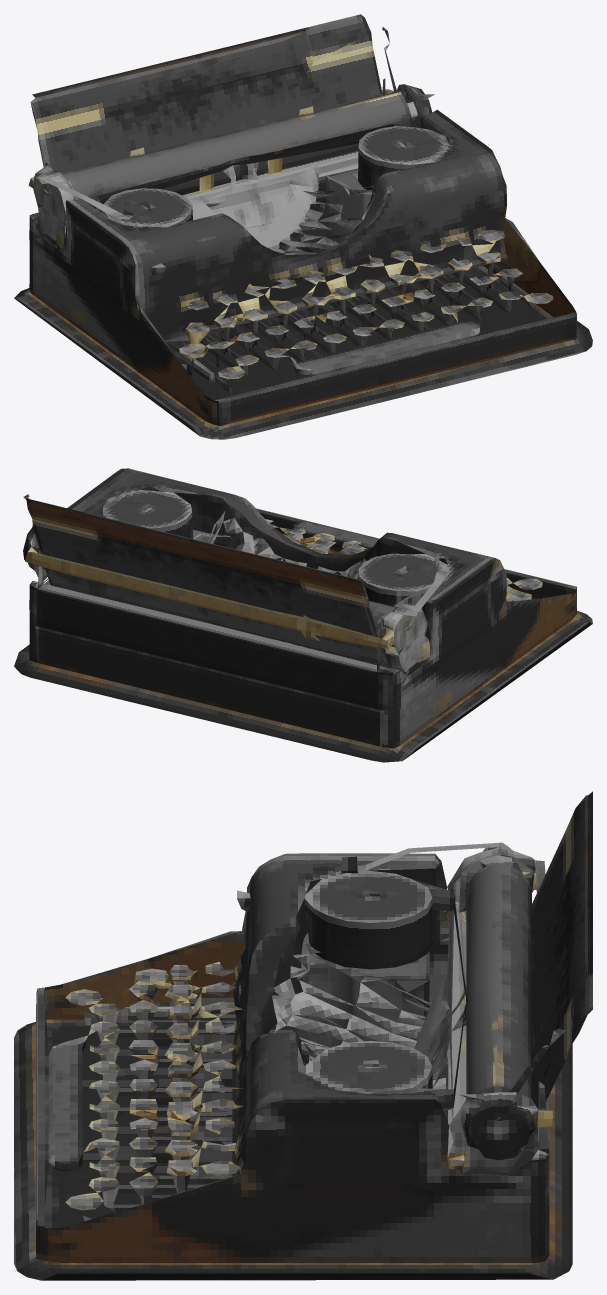
The model's file is typewriter.glb.
3 renders of one model, top to bottom at view 1: azimuth 30°, elevation 25°; view 2: azimuth 150°, elevation 25°; view 3: azimuth 270°, elevation 25°, orthographic. The views are drawn at different scales.
Visible parts, largest first — view 1: mesh; view 2: mesh; view 3: mesh.
Part boxes in pixels (bbox=[...]): mesh: bbox=[14, 14, 592, 439]; mesh: bbox=[14, 468, 592, 762]; mesh: bbox=[14, 791, 592, 1280].
Bounding box in the file's own units: 0.3358 × 0.15 × 0.3117.
1 material, 1 textured.
